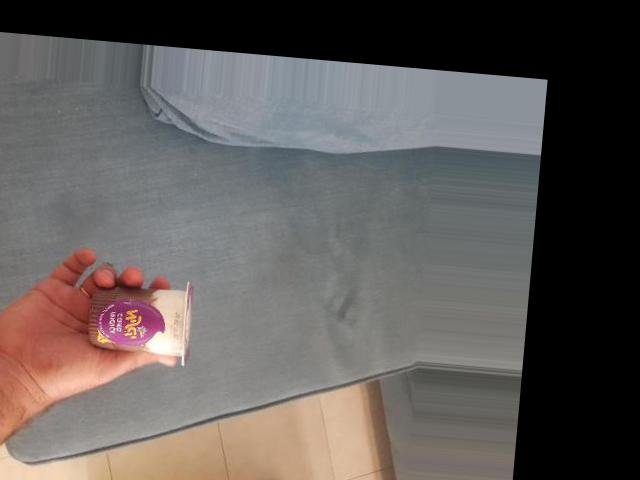milky: (149, 128, 243, 272)
